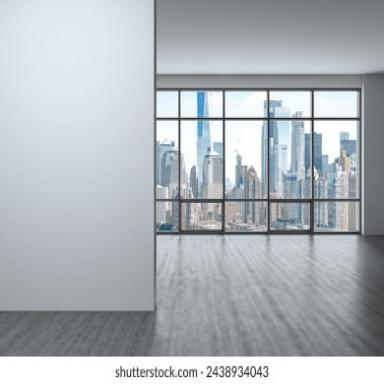glass_panel: (315, 121, 359, 196), (182, 121, 223, 199), (225, 120, 265, 198), (271, 120, 310, 198), (157, 120, 178, 198), (315, 202, 359, 230), (315, 89, 359, 117), (226, 89, 266, 117), (181, 202, 222, 229), (226, 202, 265, 230), (271, 202, 310, 229), (270, 90, 310, 116), (182, 90, 222, 116), (157, 90, 177, 116), (158, 202, 176, 230)
